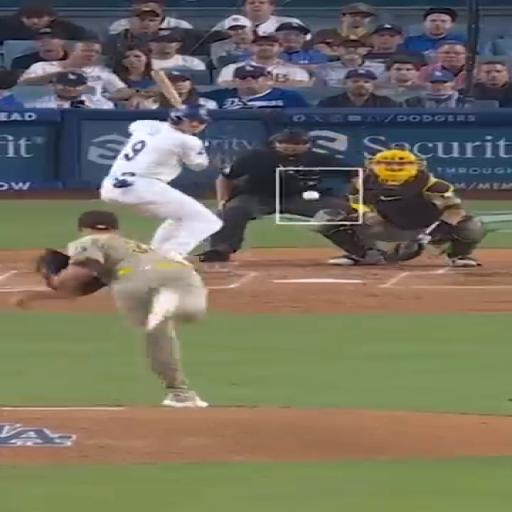bat: (153, 70, 183, 107)
